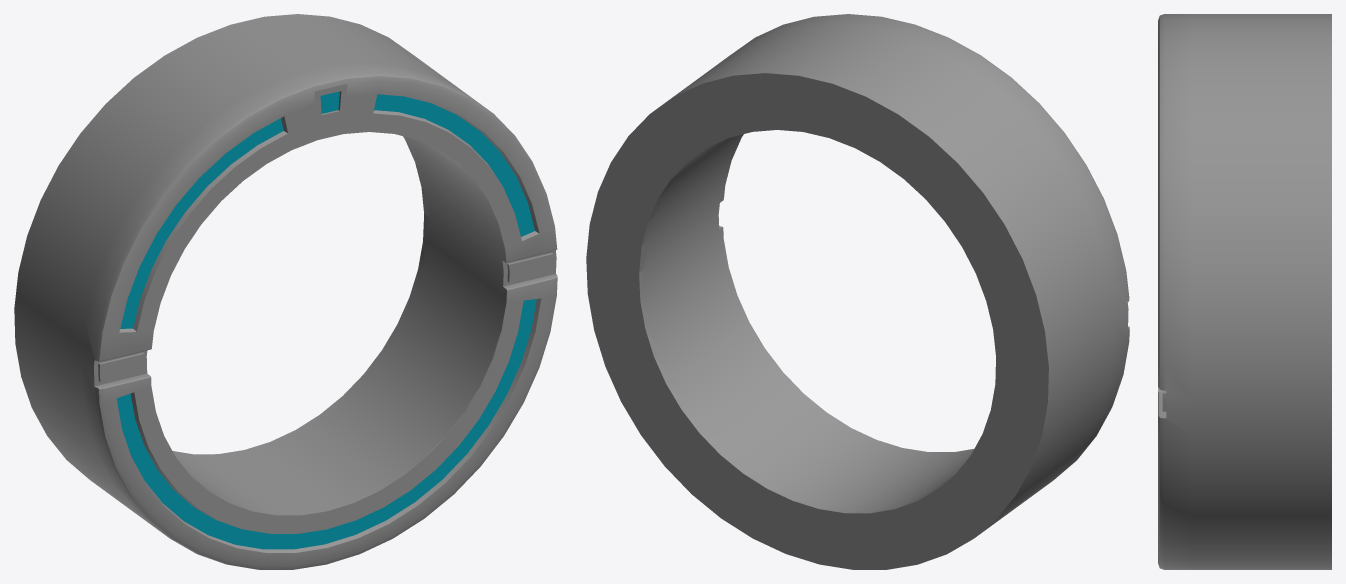
The model's file is DoorFrame.FBX.
3 views of the same model, side by side, from view 1: azimuth 30°, elevation 25°; view 2: azimuth 150°, elevation 25°; view 3: azimuth 270°, elevation 25° (orthographic). The views are drawn at different scales.
Visible parts, largest first — view 1: Cylinder003, DoorOpen/Closed; view 2: Cylinder003; view 3: Cylinder003.
Boxes of the visible parts, left/top/right/bottom form: Cylinder003: left=14, top=14, right=557, bottom=569; DoorOpen/Closed: left=98, top=352, right=144, bottom=382; Cylinder003: left=586, top=14, right=1129, bottom=569; Cylinder003: left=1158, top=14, right=1331, bottom=569.
Bounding box in the file's own units: 320 × 320 × 100.
